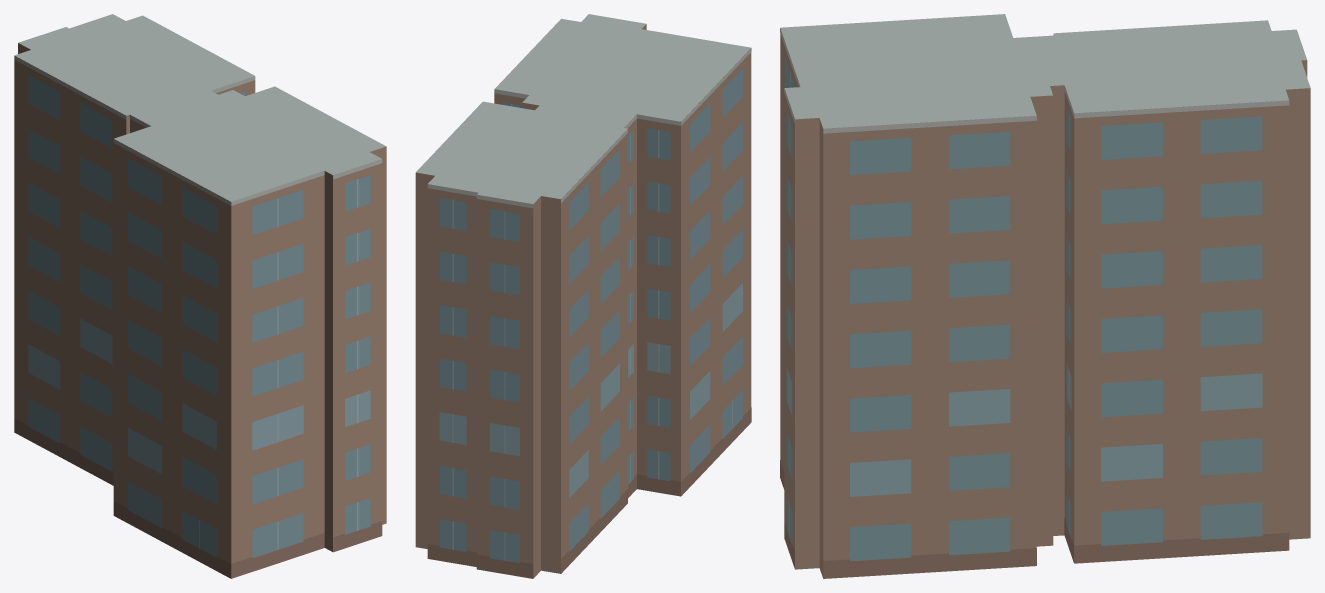
The model's file is survey-upis-32733570.glb.
3 views of the same model, side by side, from view 1: azimuth 30°, elevation 25°; view 2: azimuth 150°, elevation 25°; view 3: azimuth 270°, elevation 25° (orthographic). The views are drawn at different scales.
Visible parts, largest first — view 1: survey-upis-32733570.tmp; view 2: survey-upis-32733570.tmp; view 3: survey-upis-32733570.tmp.
Part boxes in pixels (x1,y1,x2,y2): survey-upis-32733570.tmp: (14, 14, 386, 578); survey-upis-32733570.tmp: (415, 14, 751, 578); survey-upis-32733570.tmp: (780, 14, 1310, 578).
Size of the model in its own units: 12.03 by 22 by 23.51.
